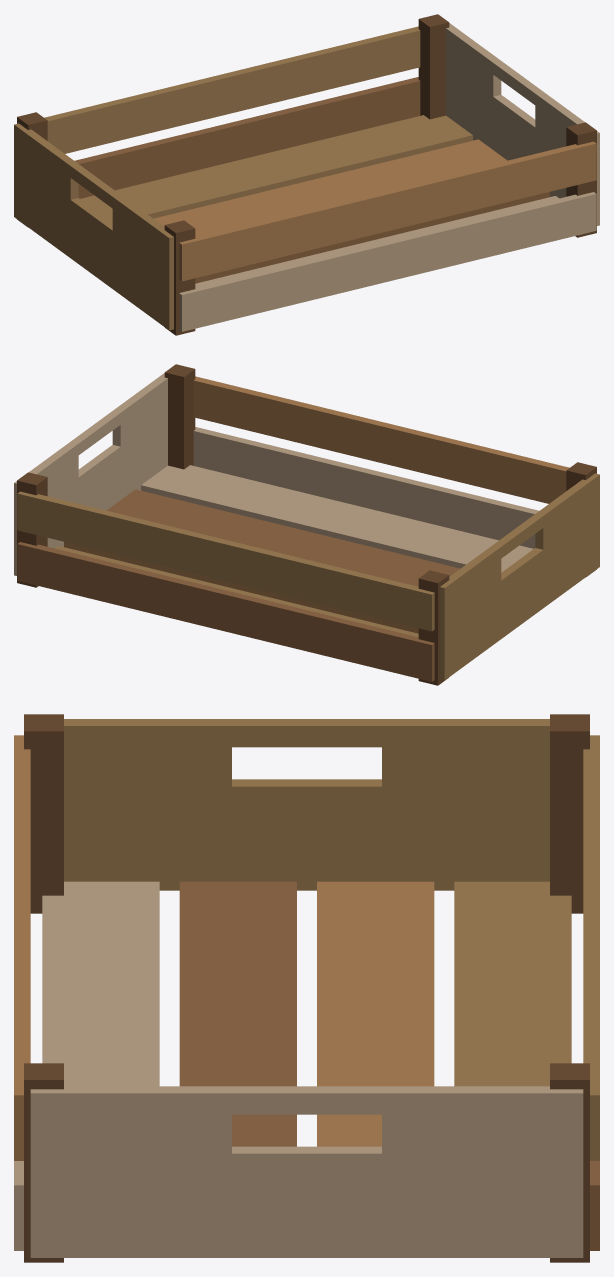
File: mdvl_food_produce_crate_01.glb
3 views of the same model, one above another, from view 1: azimuth 30°, elevation 25°; view 2: azimuth 150°, elevation 25°; view 3: azimuth 270°, elevation 25° (orthographic). The views are drawn at different scales.
Parts seen in each view (by area): view 1: mdvl_food_produce_crate_01; view 2: mdvl_food_produce_crate_01; view 3: mdvl_food_produce_crate_01.
Boxes of the visible parts, x1,y1,x2,y2 form: mdvl_food_produce_crate_01: (14,14,599,335); mdvl_food_produce_crate_01: (14,364,599,685); mdvl_food_produce_crate_01: (14,714,599,1262).
Bounding box in the file's own units: 0.532 × 0.121 × 0.352.
1 material, 1 textured.
